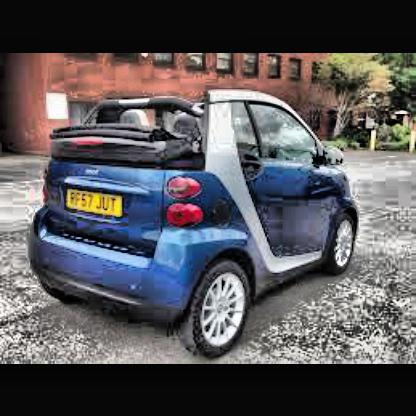smart fortwo Convertible 2012: (31, 90, 363, 361)
